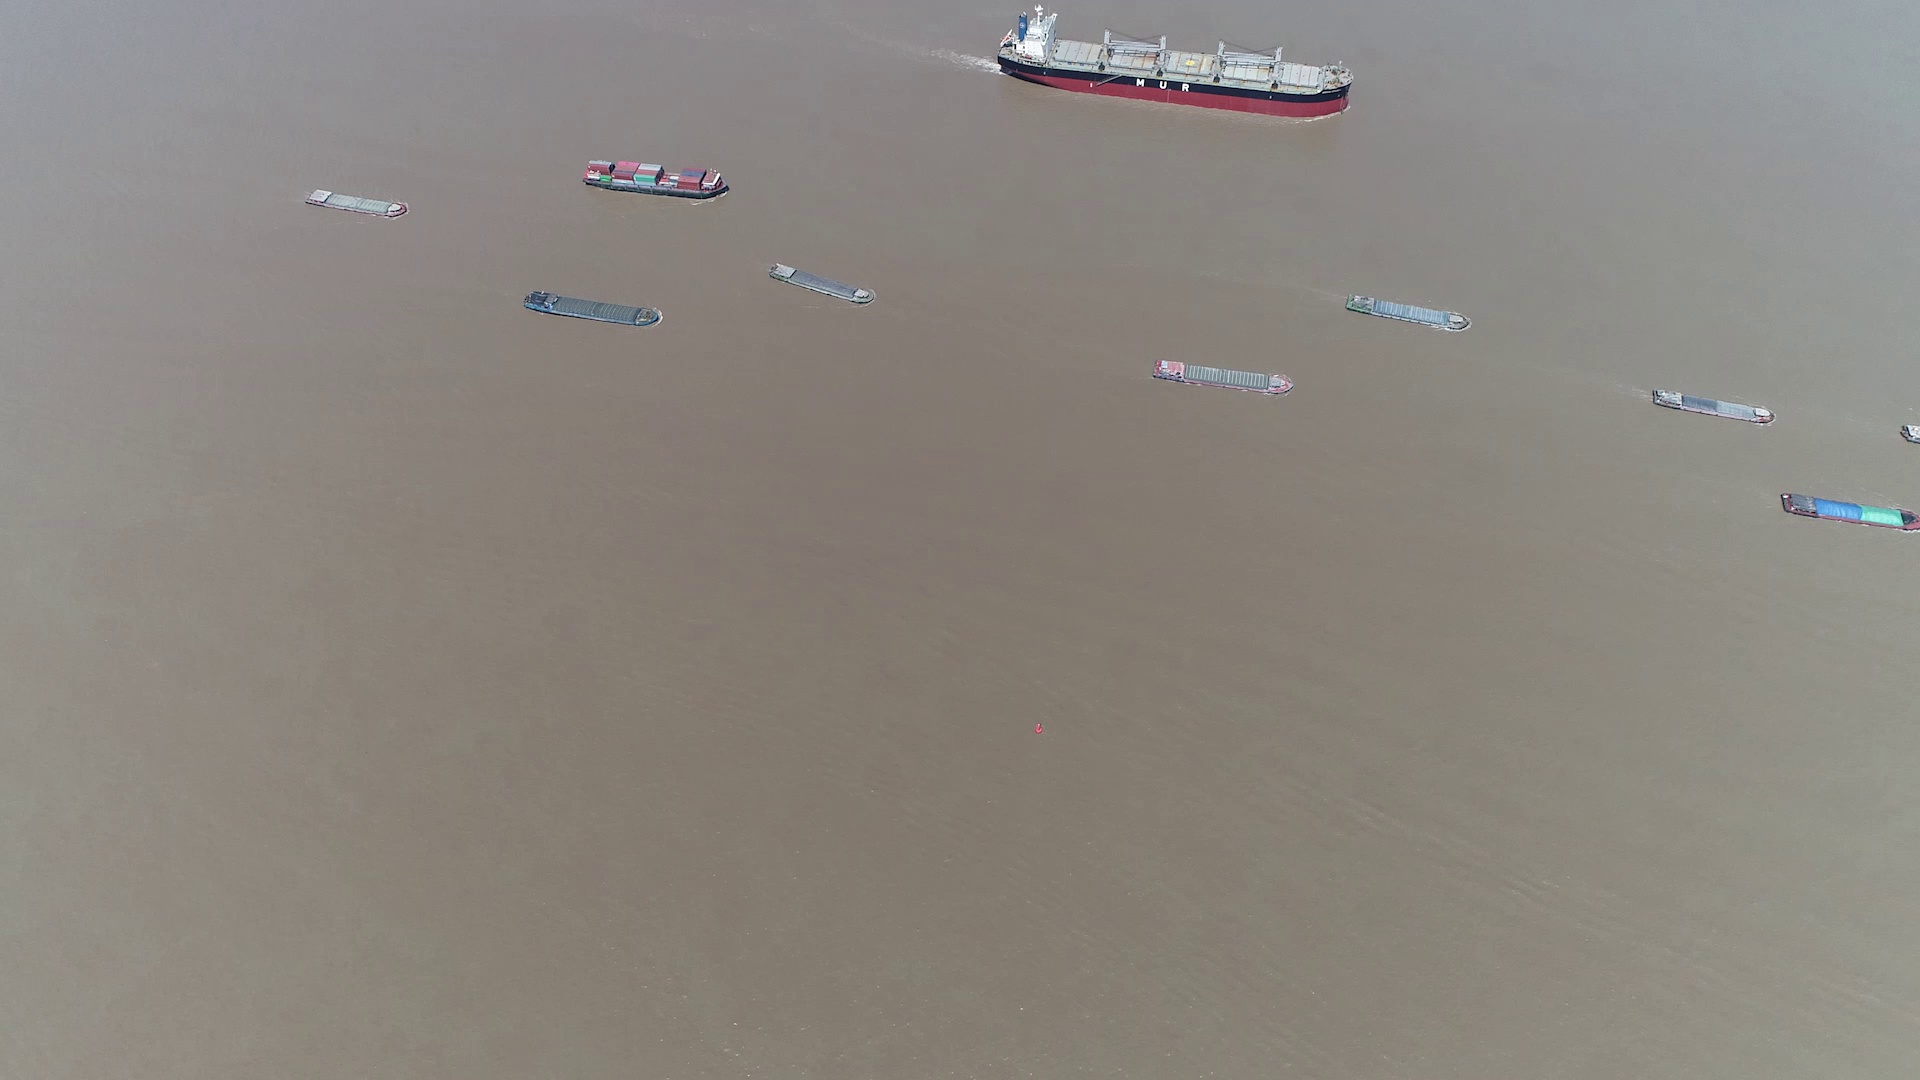ship: (996, 15, 1352, 117), (582, 160, 731, 199), (1780, 491, 1919, 531), (522, 289, 659, 328), (1153, 357, 1292, 396), (1345, 291, 1469, 334), (1648, 388, 1775, 425), (771, 262, 876, 306), (303, 189, 407, 218)
